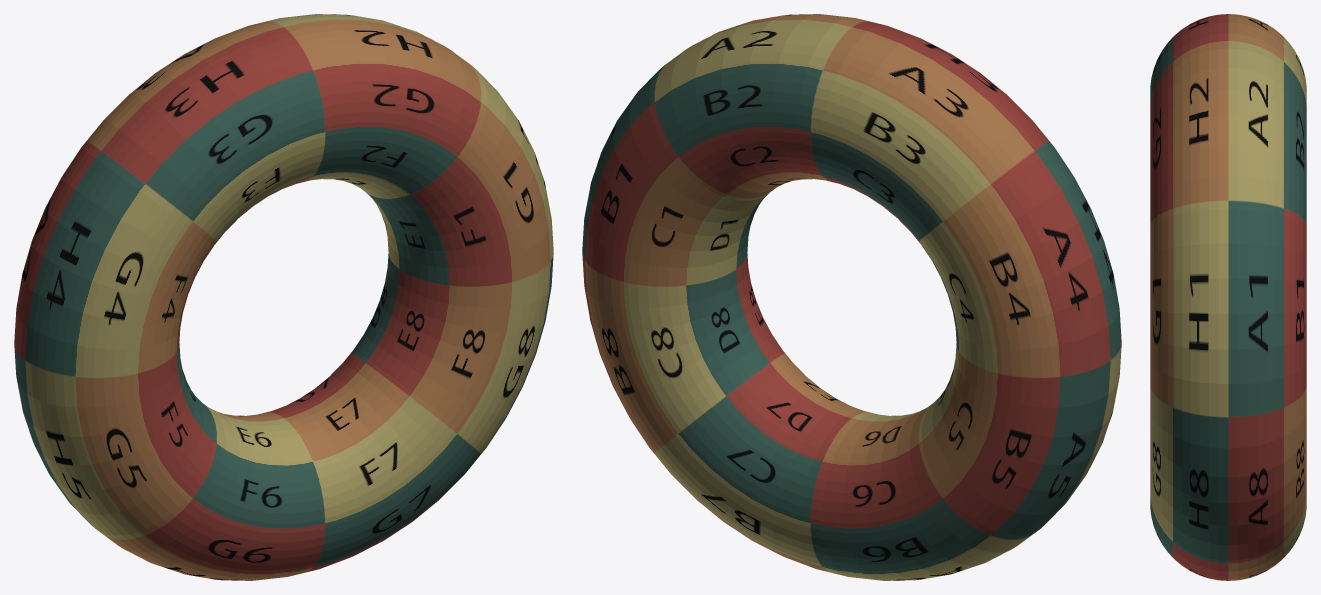
The model's file is texture_torus_R19_r25.glb.
The picture shows the model from 3 angles, left to right: view 1: azimuth 30°, elevation 25°; view 2: azimuth 150°, elevation 25°; view 3: azimuth 270°, elevation 25°; orthographic projection. The views are drawn at different scales.
Visible parts, largest first — view 1: world; view 2: world; view 3: world.
Part boxes in pixels (x1,y1,x2,y2): world: (14,14,553,580); world: (582,14,1121,580); world: (1150,14,1306,580).
Bounding box in the file's own units: 31.33 × 31.27 × 8.65.
Materials: 1 (1 with a texture image).
